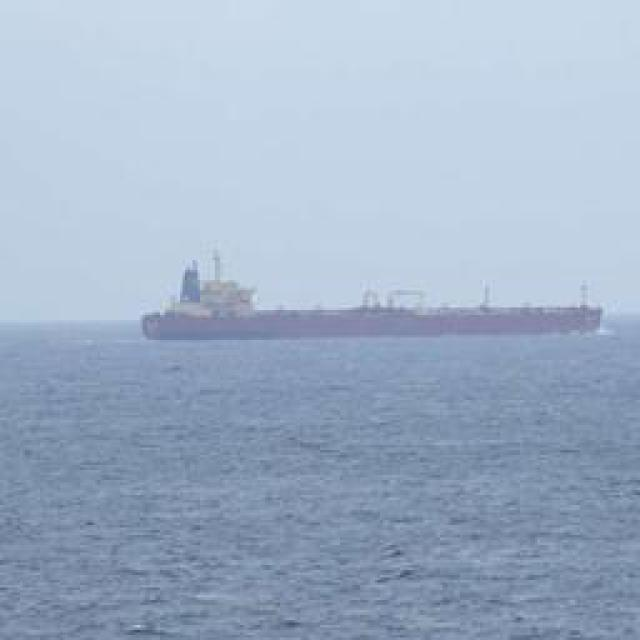Ship: (148, 271, 603, 344)
